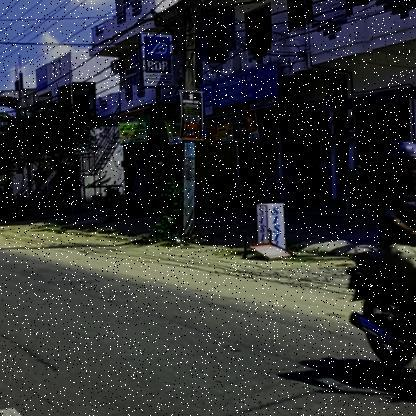motorcycle: (341, 221, 416, 411)
